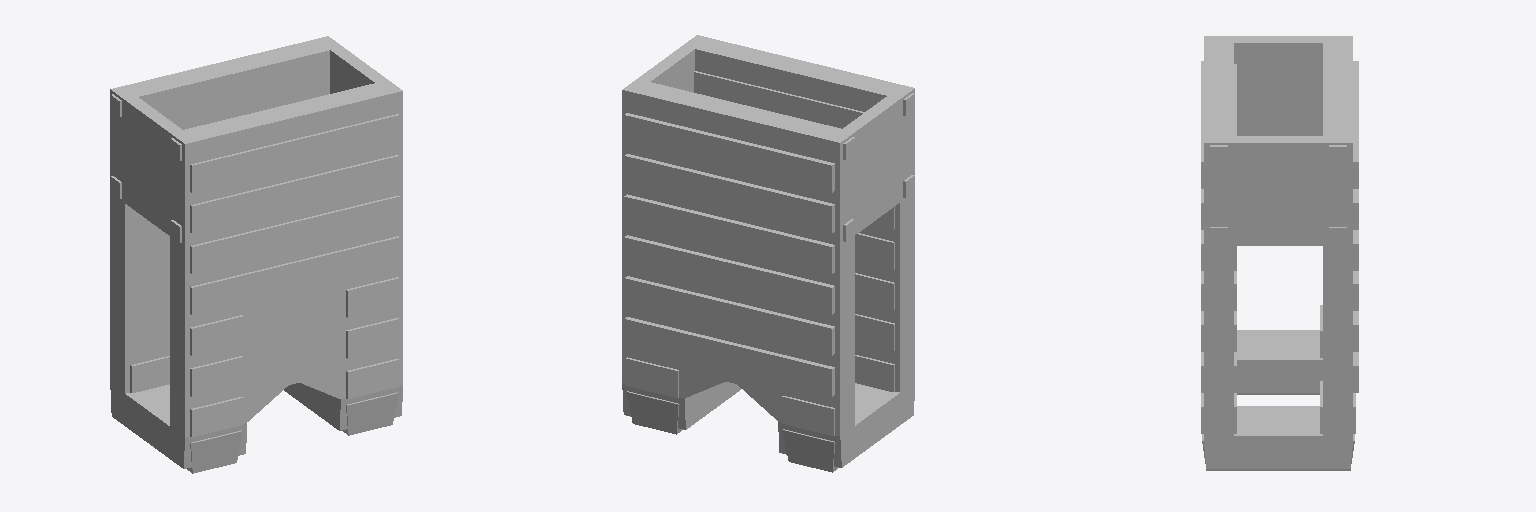
File: vest.obj
3 views of the same model, side by side, from view 1: azimuth 30°, elevation 25°; view 2: azimuth 150°, elevation 25°; view 3: azimuth 270°, elevation 25° (orthographic).
Parts seen in each view (by area): view 1: armorModel; view 2: armorModel; view 3: armorModel.
Boxes of the visible parts, <box> form: armorModel: <box>110,36,402,473</box>; armorModel: <box>622,35,914,472</box>; armorModel: <box>1201,36,1358,470</box>.
Size of the model in its own units: 8.58 by 12.23 by 5.29.